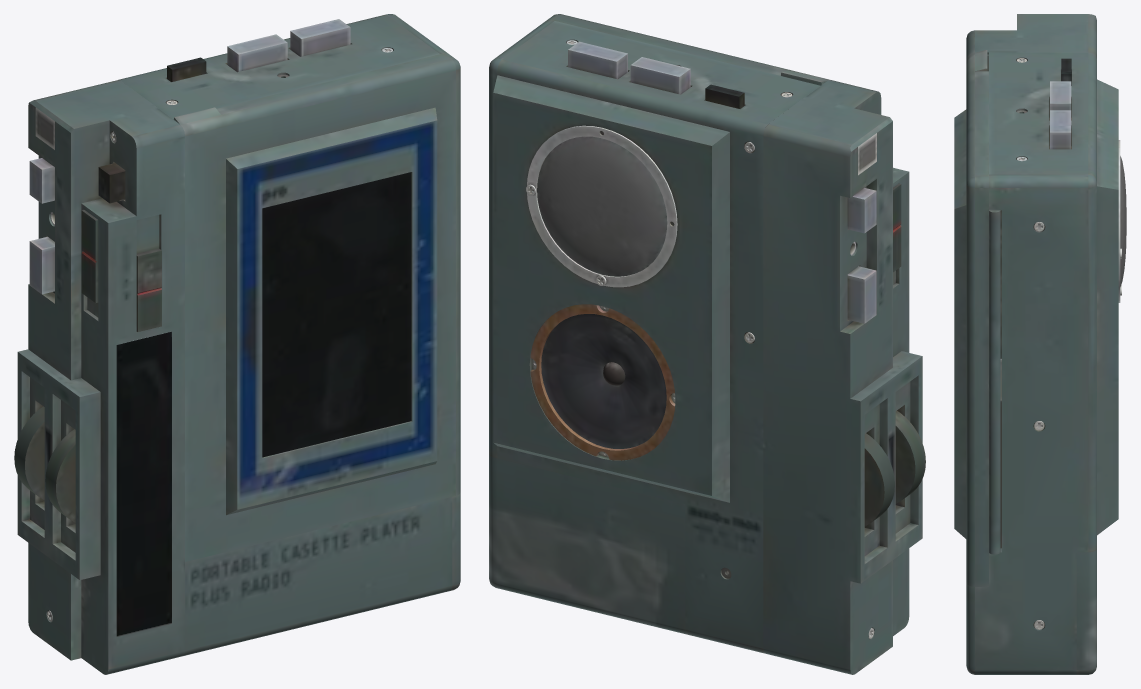
The model's file is tape.glb.
The picture shows the model from 3 angles, left to right: view 1: azimuth 30°, elevation 25°; view 2: azimuth 150°, elevation 25°; view 3: azimuth 270°, elevation 25°; orthographic projection. The views are drawn at different scales.
Parts seen in each view (by area): view 1: portable_cassette_player_lid; view 2: portable_cassette_player_lid; view 3: portable_cassette_player_lid.
Boxes of the visible parts, <box> form: portable_cassette_player_lid: <box>14,14,460,674</box>; portable_cassette_player_lid: <box>489,14,925,674</box>; portable_cassette_player_lid: <box>954,14,1126,674</box>.
Bounding box in the file's own units: 0.0983 × 0.1303 × 0.0397.
2 materials, 2 textured.
